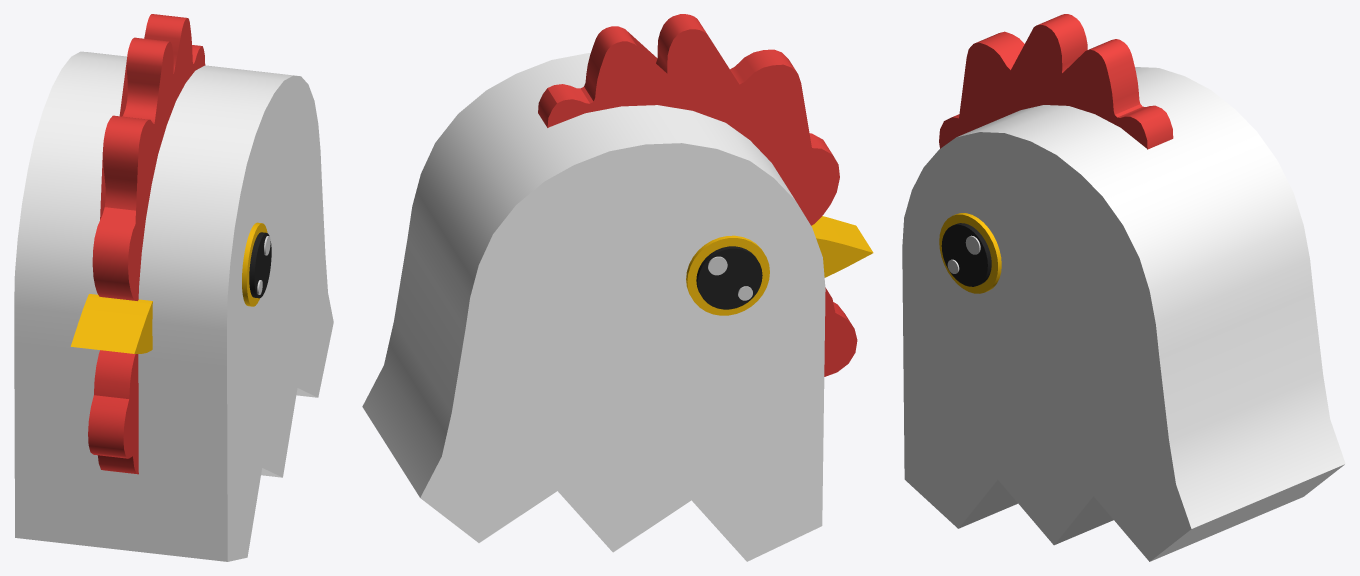
The model's file is chicken.fbx.
The picture shows the model from 3 angles, left to right: view 1: azimuth 30°, elevation 25°; view 2: azimuth 150°, elevation 25°; view 3: azimuth 270°, elevation 25°; orthographic projection. The views are drawn at different scales.
Visible parts, largest first — view 1: Cube.6274; view 2: Cube.6274; view 3: Cube.6274.
Part boxes in pixels (x1,y1,x2,y2): Cube.6274: (14, 14, 333, 561); Cube.6274: (362, 14, 873, 561); Cube.6274: (902, 14, 1345, 561).
Bounding box in the file's own units: 165 × 200 × 165.
1 material, 1 textured.
